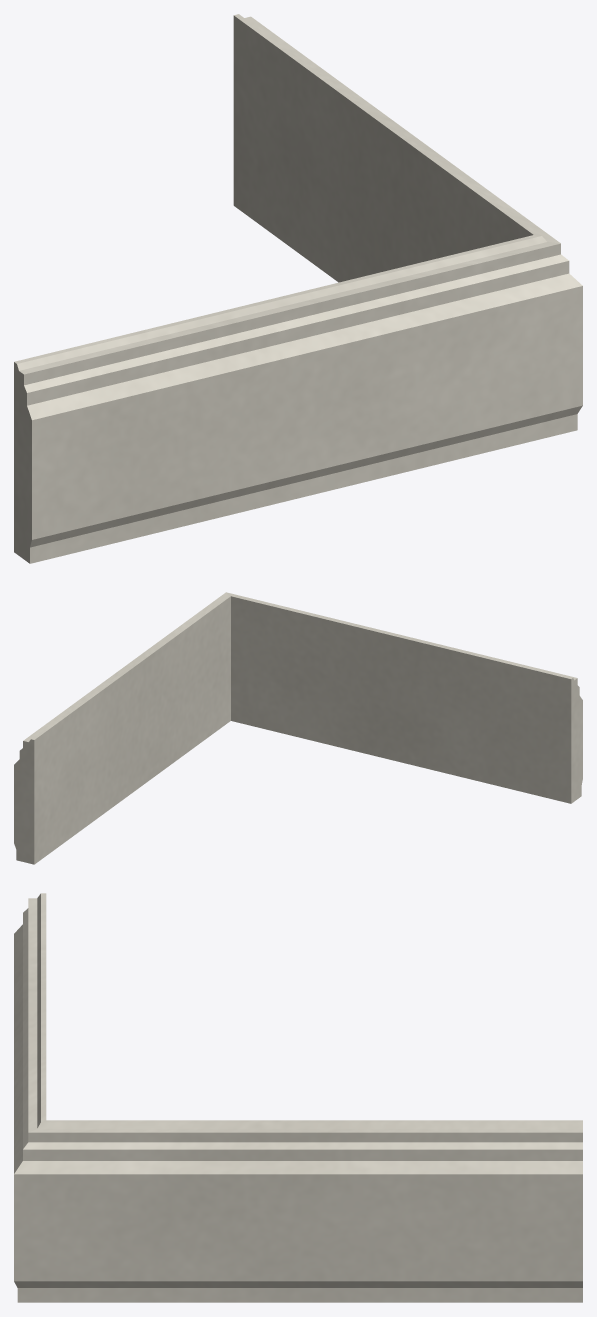
The model's file is PZ_InteriorTrim_V04_Baseboard_InsideCorner.glb.
3 renders of one model, top to bottom at view 1: azimuth 30°, elevation 25°; view 2: azimuth 150°, elevation 25°; view 3: azimuth 270°, elevation 25°, orthographic. The views are drawn at different scales.
Visible parts, largest first — view 1: V04_Baseboard_InsideCorner__Skirting_Miter90_ContinuousShell; view 2: V04_Baseboard_InsideCorner__Skirting_Miter90_ContinuousShell; view 3: V04_Baseboard_InsideCorner__Skirting_Miter90_ContinuousShell.
Part boxes in pixels (box(x1,y1,x2,y2)): V04_Baseboard_InsideCorner__Skirting_Miter90_ContinuousShell: box(14, 14, 582, 563); V04_Baseboard_InsideCorner__Skirting_Miter90_ContinuousShell: box(14, 592, 582, 864); V04_Baseboard_InsideCorner__Skirting_Miter90_ContinuousShell: box(14, 893, 582, 1302).
Size of the model in its own units: 0.318 by 0.105 by 0.318.
1 material, 1 textured.
